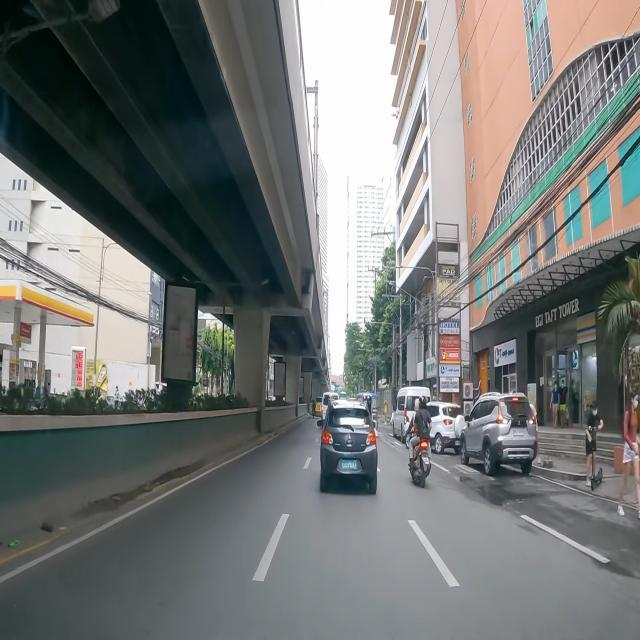bus: (339, 392, 346, 399)
car: (460, 392, 538, 476), (320, 400, 378, 494), (390, 386, 430, 443), (427, 400, 464, 454)
jeepney: (357, 393, 378, 429)
motorcycle: (408, 398, 432, 487)
tricycle: (312, 398, 322, 419)
